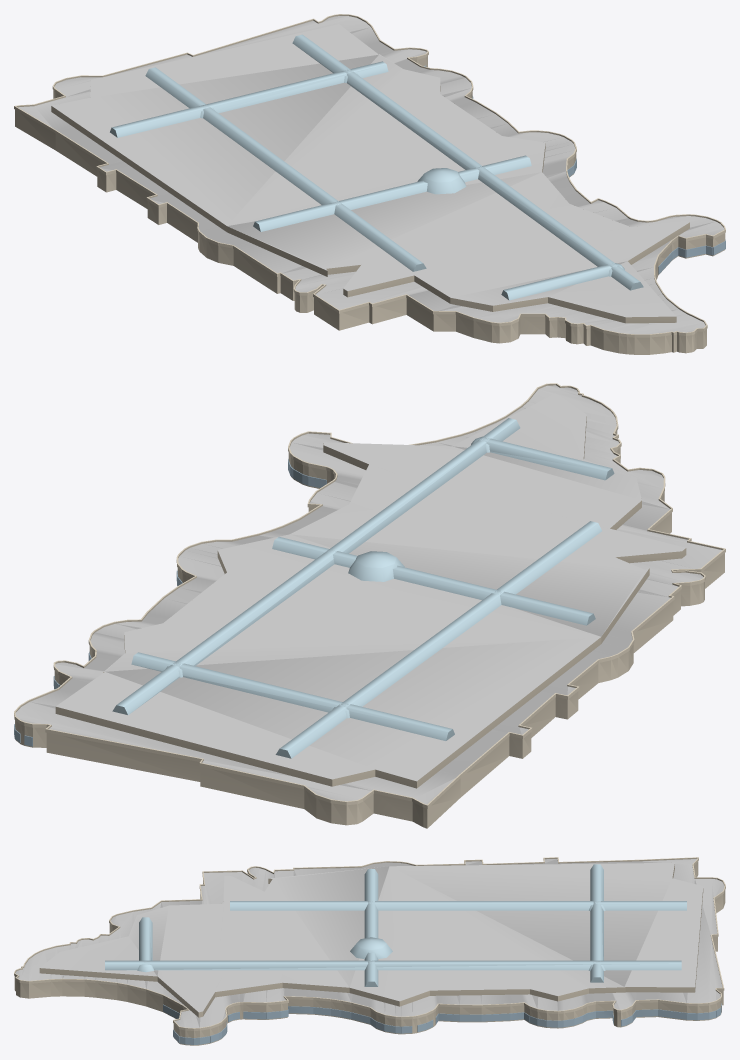
Rendered from dubai_mall_lod1.glb.
3 renders of one model, top to bottom at view 1: azimuth 30°, elevation 25°; view 2: azimuth 150°, elevation 25°; view 3: azimuth 270°, elevation 25°, orthographic. The views are drawn at different scales.
Visible parts, largest first — view 1: dubai_mall_lod1; view 2: dubai_mall_lod1; view 3: dubai_mall_lod1.
Boxes of the visible parts, x1=… form: dubai_mall_lod1: x1=14, y1=14, x2=725, y2=354; dubai_mall_lod1: x1=14, y1=383, x2=725, y2=828; dubai_mall_lod1: x1=14, y1=857, x2=725, y2=1045.
Bounding box in the file's own units: 450 × 39.68 × 791.
